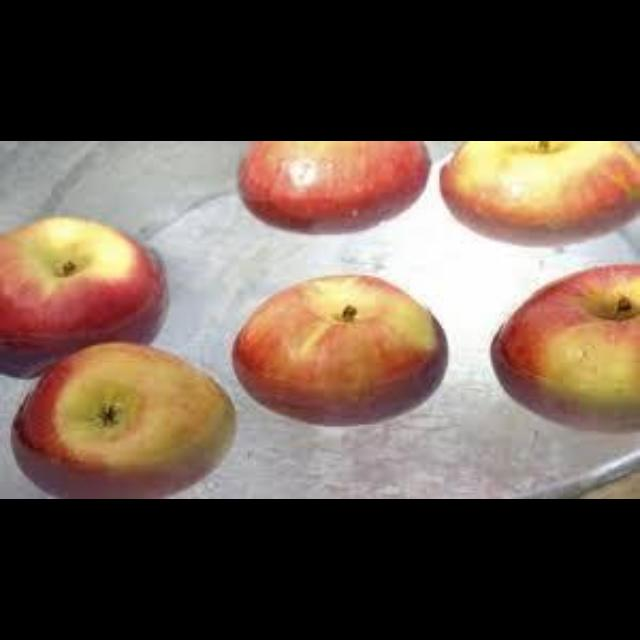apple: (11, 344, 235, 497), (233, 275, 446, 425), (0, 218, 166, 376), (491, 265, 638, 431), (439, 141, 638, 243), (237, 141, 429, 233)
